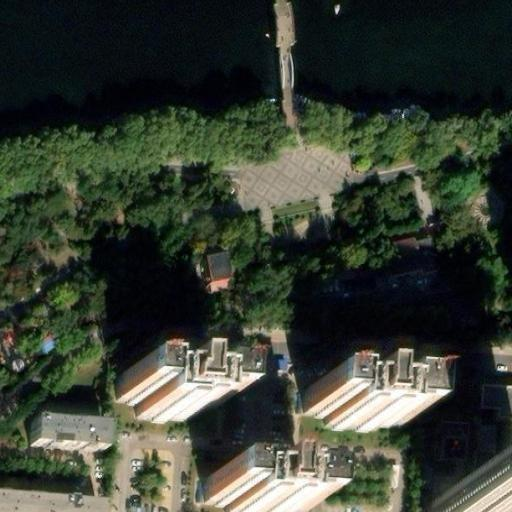building: (116, 371, 217, 422), (307, 381, 409, 428), (203, 473, 306, 512), (41, 414, 114, 448), (431, 500, 512, 512), (480, 384, 512, 414), (208, 250, 234, 283), (387, 228, 418, 249)
